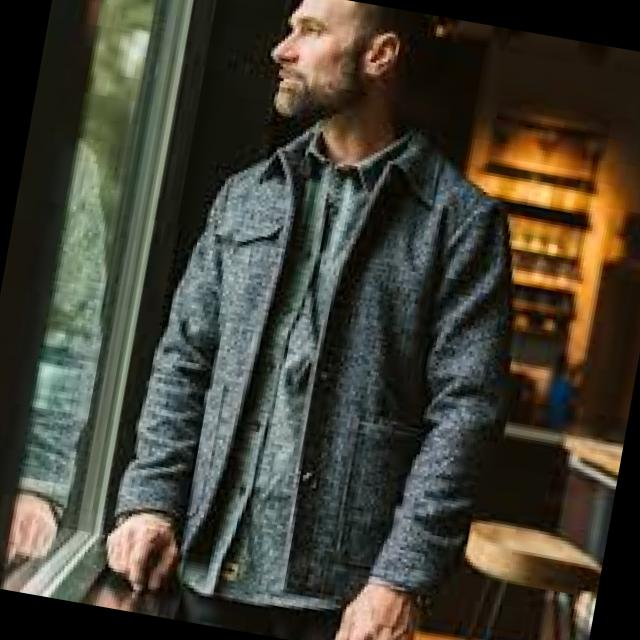Jacket: (76, 83, 570, 640)
